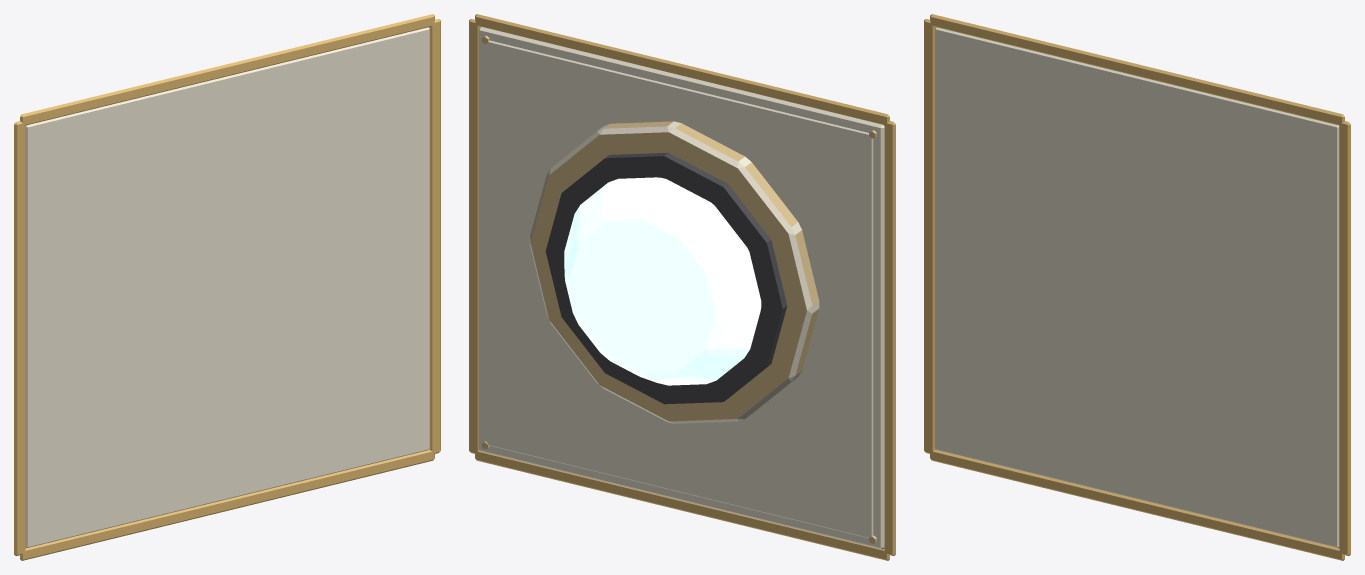
File: Ctl_Button_2x2.fbx
3 views of the same model, side by side, from view 1: azimuth 30°, elevation 25°; view 2: azimuth 150°, elevation 25°; view 3: azimuth 330°, elevation 25° (orthographic).
Parts seen in each view (by area): view 1: Ctl_Button_2x2, Ctl_Button_2x2_Frame; view 2: Ctl_Button_2x2, Moving.002, Ctl_Button_2x2_Frame; view 3: Ctl_Button_2x2, Ctl_Button_2x2_Frame.
Part boxes in pixels (bbox=[...]): Ctl_Button_2x2: bbox=[25, 27, 429, 547]; Ctl_Button_2x2_Frame: bbox=[14, 14, 440, 560]; Ctl_Button_2x2: bbox=[478, 26, 884, 549]; Moving.002: bbox=[564, 177, 761, 385]; Ctl_Button_2x2_Frame: bbox=[469, 14, 895, 560]; Ctl_Button_2x2: bbox=[935, 27, 1339, 547]; Ctl_Button_2x2_Frame: bbox=[924, 14, 1350, 560].
Bounding box in the file's own units: 2.16 × 2.16 × 0.36.
